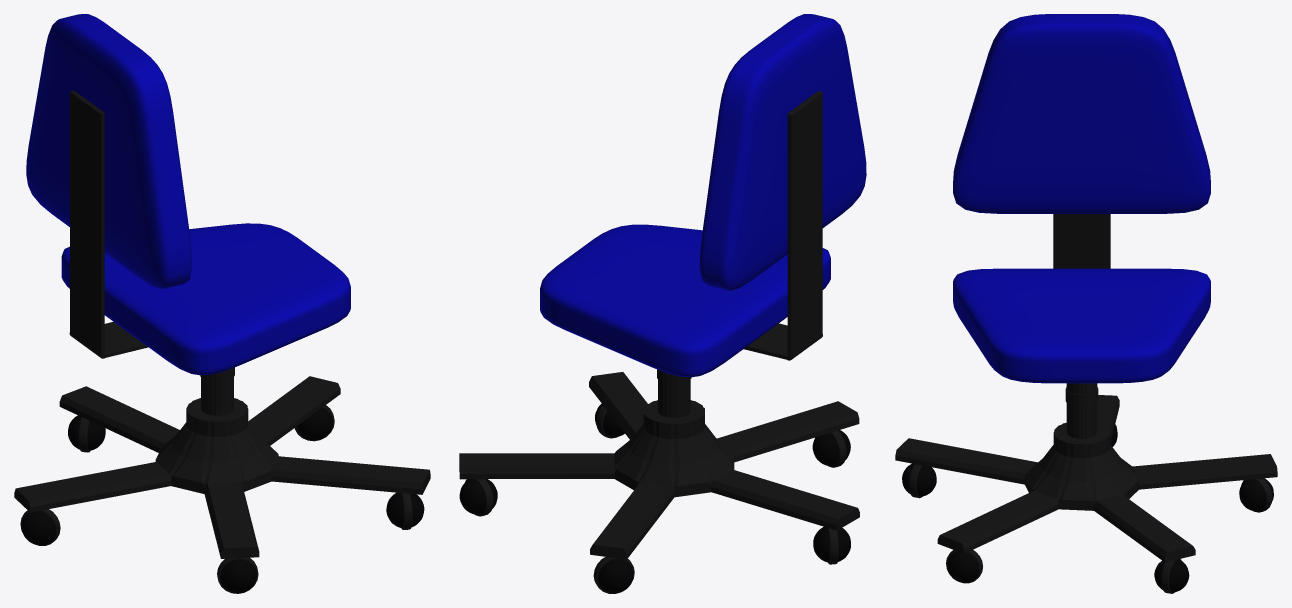
File: Chair4.fbx
The picture shows the model from 3 angles, left to right: view 1: azimuth 30°, elevation 25°; view 2: azimuth 150°, elevation 25°; view 3: azimuth 270°, elevation 25°; orthographic projection. The views are drawn at different scales.
Visible parts, largest first — view 1: pCube4, pDisc2, pCube1, pCube2, pSphere1 (×5); view 2: pCube4, pDisc2, pCube1, pCube2, pSphere1 (×4); view 3: pCube4, pCube1, pDisc2, pCube2, pSphere1 (×4).
Part boxes in pixels (<box>): pCube4: <box>26,14,191,289</box>; pDisc2: <box>14,367,430,558</box>; pCube1: <box>61,223,350,375</box>; pCube2: <box>69,90,148,358</box>; pSphere1 (×5): <box>21,408,424,593</box>; pCube4: <box>699,14,866,290</box>; pDisc2: <box>459,369,859,559</box>; pCube1: <box>540,224,830,377</box>; pCube2: <box>743,91,822,360</box>; pSphere1 (×4): <box>459,430,850,593</box>; pCube4: <box>953,14,1210,213</box>; pCube1: <box>953,268,1210,383</box>; pDisc2: <box>895,383,1277,562</box>; pCube2: <box>1053,214,1110,268</box>; pSphere1 (×4): <box>902,463,1273,592</box>.
Size of the model in its own units: 0.8259 by 1.11 by 0.8402.
